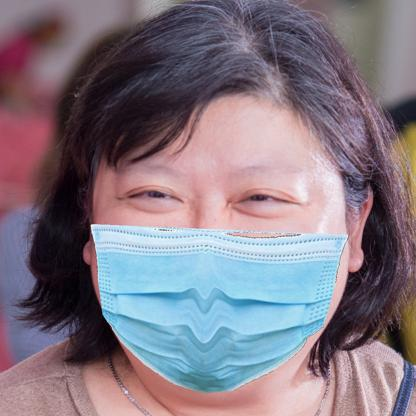mask: (85, 220, 350, 395)
